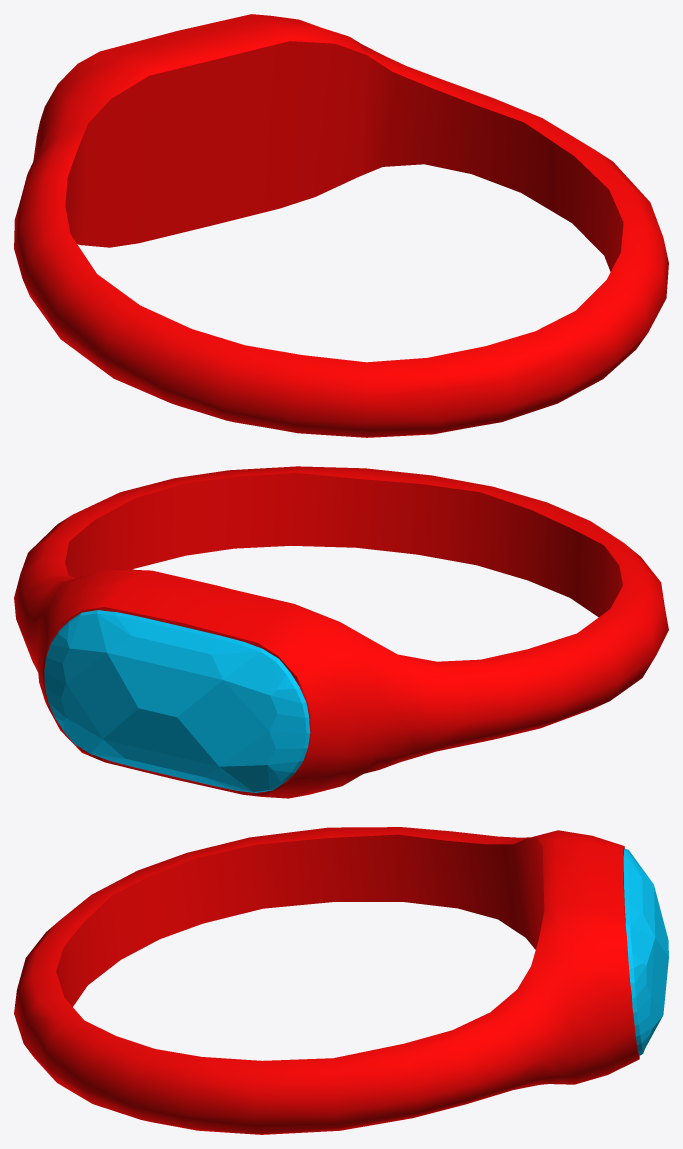
Rendered from Gold_ringringring.fbx.
3 views of the same model, one above another, from view 1: azimuth 30°, elevation 25°; view 2: azimuth 150°, elevation 25°; view 3: azimuth 270°, elevation 25° (orthographic). The views are drawn at different scales.
Parts seen in each view (by area): view 1: ring_Low.001; view 2: ring_Low.001; view 3: ring_Low.001.
Boxes of the visible parts, left/top/right/bottom form: ring_Low.001: left=14, top=14, right=668, bottom=437; ring_Low.001: left=14, top=466, right=668, bottom=798; ring_Low.001: left=14, top=827, right=668, bottom=1134.
Bounding box in the file's own units: 0.2379 × 0.0741 × 0.2554.
